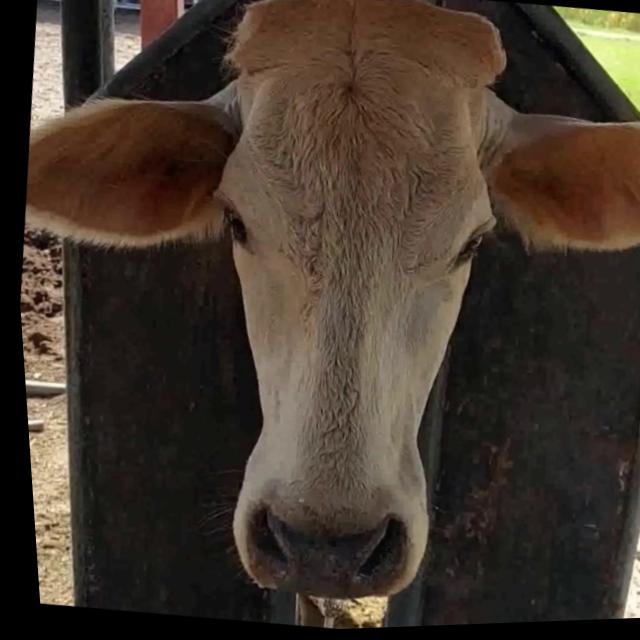cowFace: (159, 0, 534, 603)
